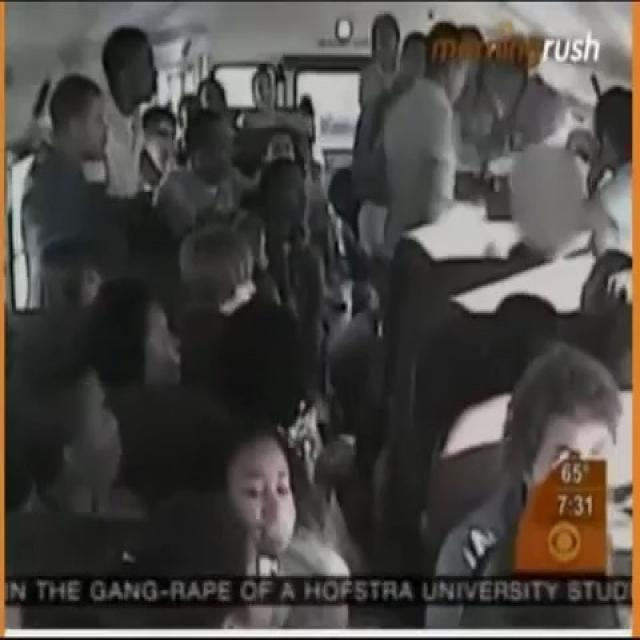fight: (378, 21, 540, 248)
